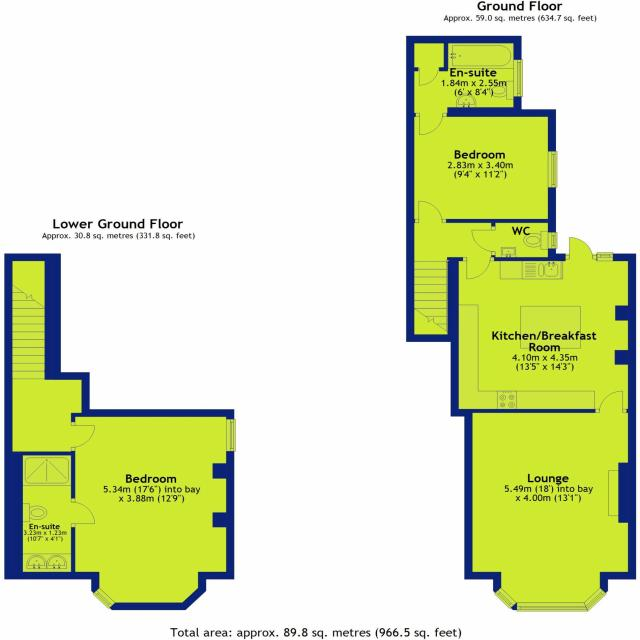DOOR: (71, 424, 96, 448), (71, 501, 95, 525), (466, 257, 491, 280)
ROOM: (464, 390, 636, 611), (447, 236, 636, 417), (71, 409, 236, 610), (406, 107, 557, 223)
